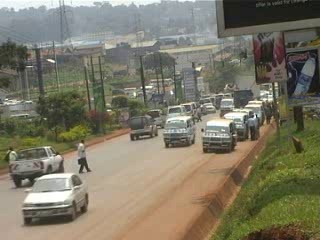Car: (20, 171, 91, 225), (126, 113, 158, 142), (198, 100, 216, 113)
